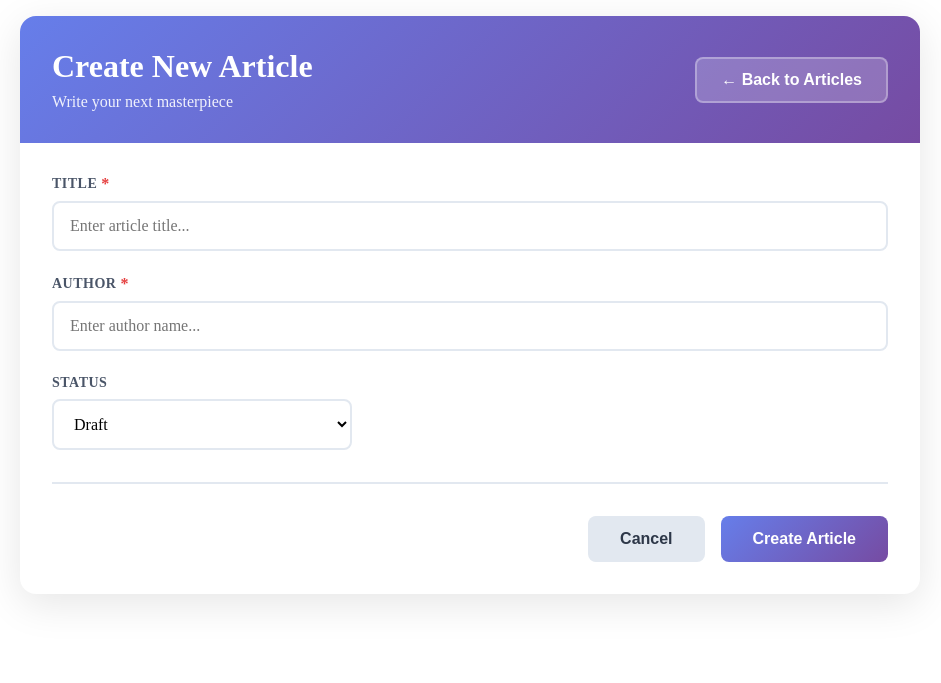
Scenario: ArticleFormPage - Error Handling › clears error message on subsequent submission
The image size is (941, 683).
Type "Test" into the field with placeholder "Enter article title..." at (470, 226), box [52,201,888,251]
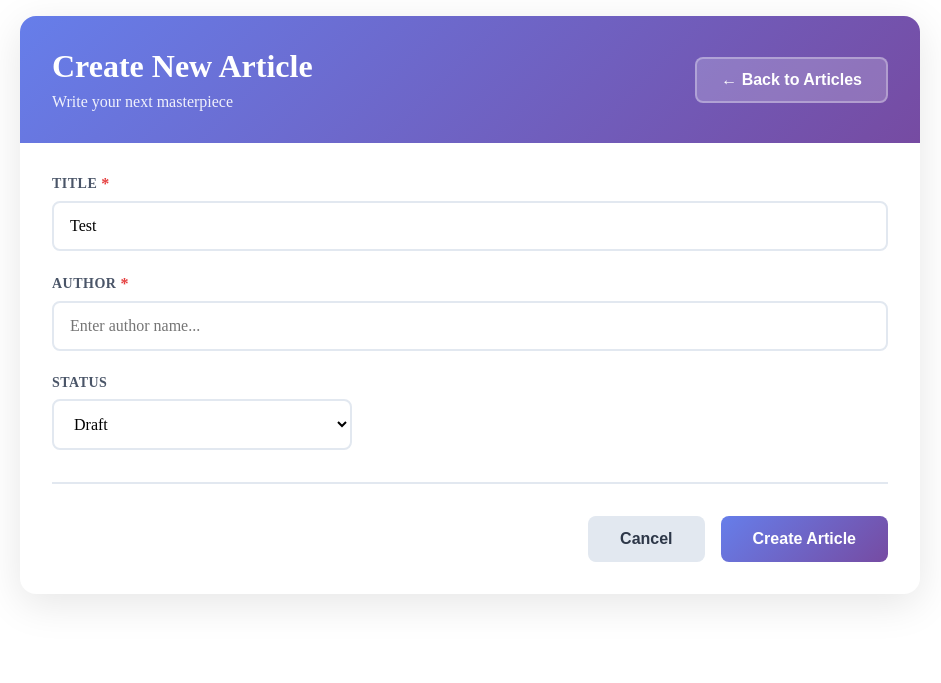
Type "Author" into the field with placeholder "Enter author name..." at (470, 326), box [52,301,888,351]
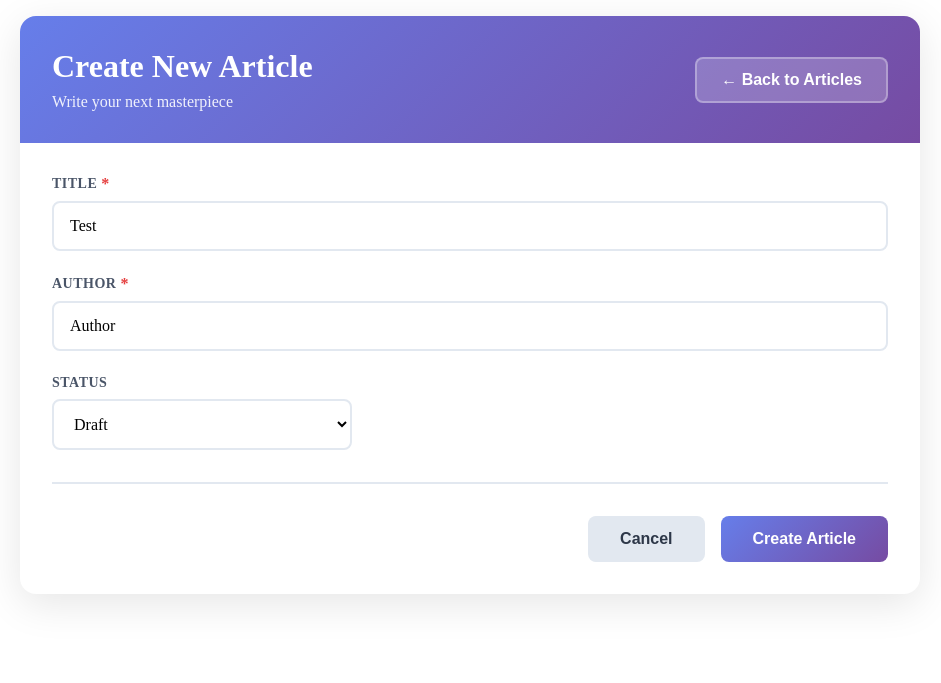
Note: First submission fails
Click the button "Create Article" at (804, 539), box [720,516,888,562]
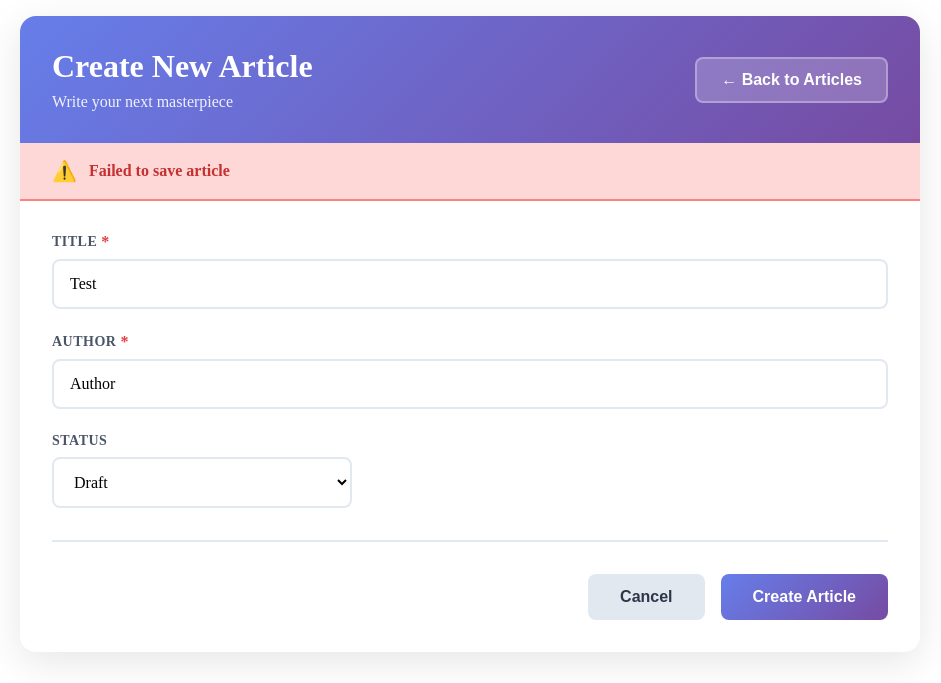
Expected: the text "Failed to save article" is shown, [89,162,230,180]
Click the button "Create Article" at (804, 597), box [720,574,888,620]
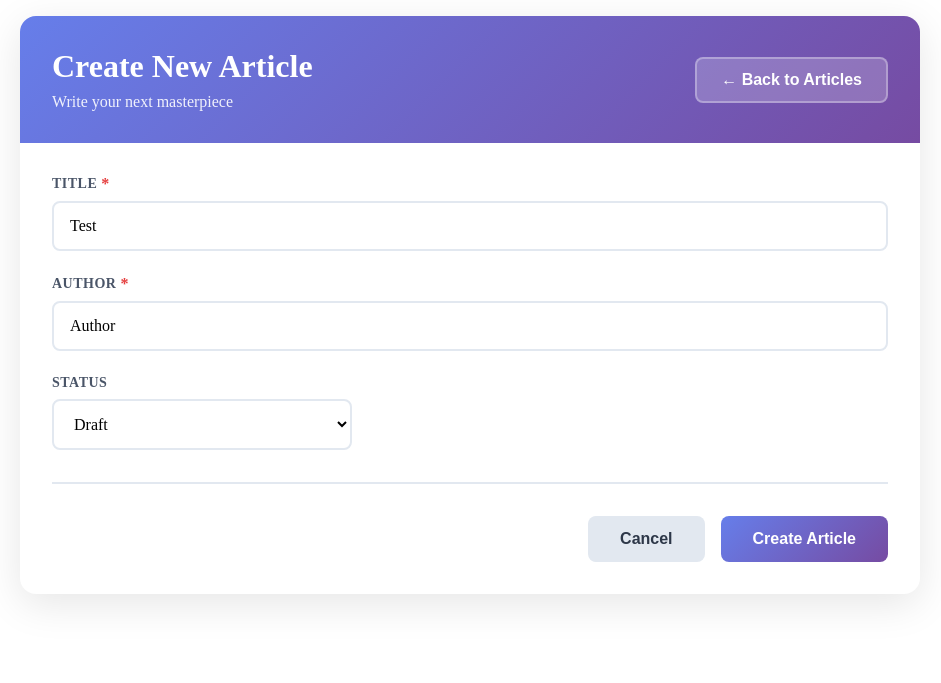
Expected: the text "Failed to save article" is gone
